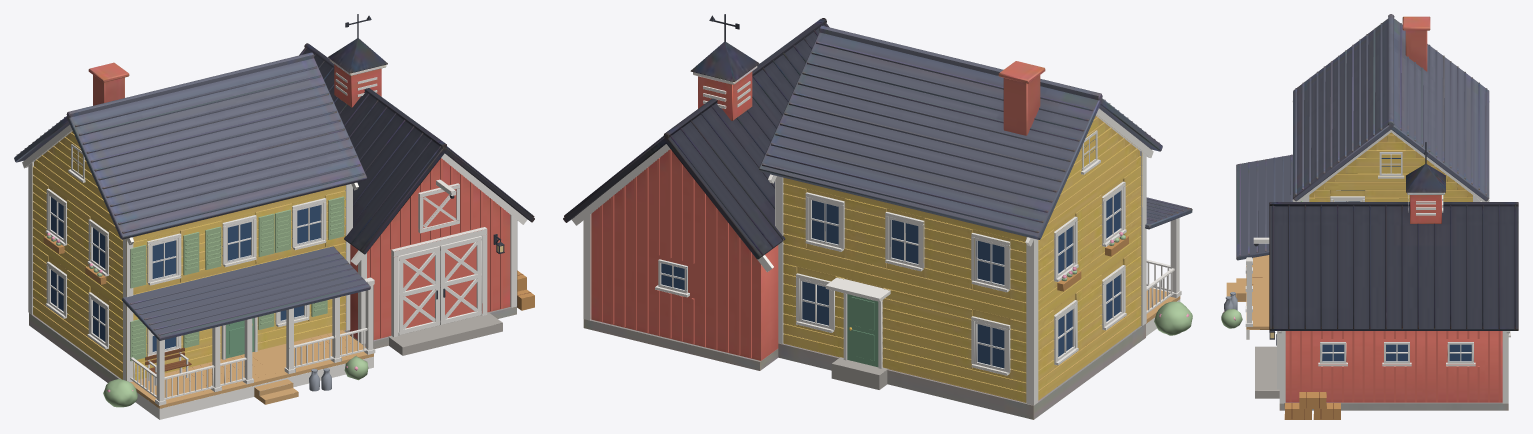
Rendered from farmhouse.glb.
The picture shows the model from 3 angles, left to right: view 1: azimuth 30°, elevation 25°; view 2: azimuth 150°, elevation 25°; view 3: azimuth 270°, elevation 25°; orthographic projection. The views are drawn at different scales.
Parts seen in each view (by area): view 1: farmhouse_body, farmhouse_details, farmhouse_barn_door_right, farmhouse_barn_door_left, farmhouse_battens, farmhouse_plants; view 2: farmhouse_body, farmhouse_details, farmhouse_battens, farmhouse_plants; view 3: farmhouse_body, farmhouse_details, farmhouse_battens, farmhouse_plants.
Boxes of the visible parts, bbox=[...] form: farmhouse_body: bbox=[14, 38, 534, 382]; farmhouse_details: bbox=[22, 14, 534, 419]; farmhouse_barn_door_right: bbox=[440, 236, 481, 324]; farmhouse_barn_door_left: bbox=[399, 246, 439, 335]; farmhouse_battens: bbox=[370, 158, 502, 338]; farmhouse_plants: bbox=[103, 356, 368, 407]; farmhouse_body: bbox=[563, 18, 1192, 419]; farmhouse_details: bbox=[571, 14, 1181, 405]; farmhouse_battens: bbox=[599, 149, 751, 358]; farmhouse_plants: bbox=[1154, 301, 1192, 335]; farmhouse_body: bbox=[1236, 14, 1518, 410]; farmhouse_details: bbox=[1224, 101, 1510, 419]; farmhouse_battens: bbox=[1289, 331, 1500, 402]; farmhouse_plants: bbox=[1221, 309, 1242, 328].
Bounding box in the file's own units: 15.37 × 9.24 × 10.26.
19 materials, 1 textured.
